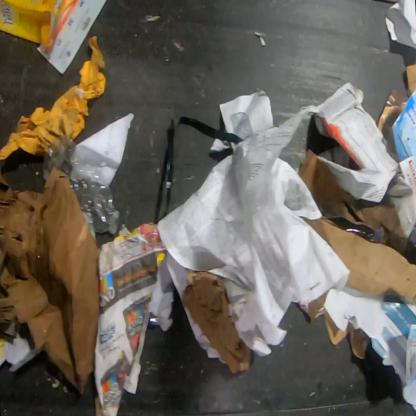cardboard: (0, 167, 101, 396), (298, 148, 408, 254), (297, 215, 415, 302), (182, 270, 252, 375), (0, 0, 82, 49), (405, 63, 415, 98)
rigid_plastic: (155, 115, 245, 225), (41, 134, 121, 238)
